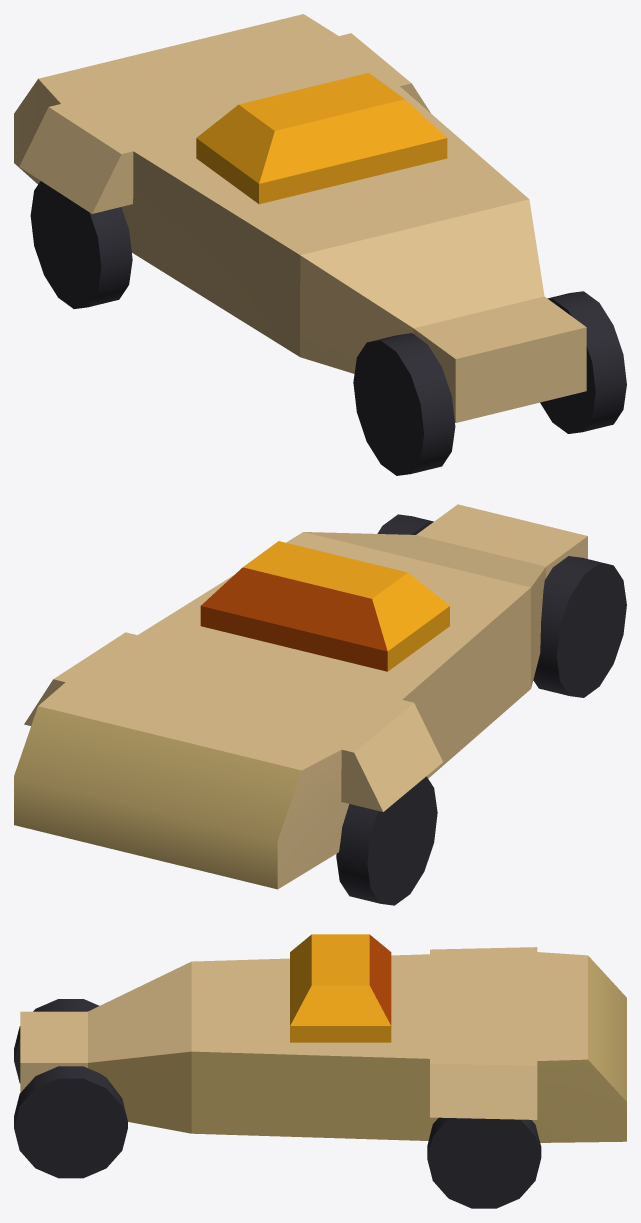
File: Loader.fbx
The picture shows the model from 3 angles, top to bottom: view 1: azimuth 30°, elevation 25°; view 2: azimuth 150°, elevation 25°; view 3: azimuth 270°, elevation 25°; orthographic projection. The views are drawn at different scales.
Parts seen in each view (by area): view 1: Loader; view 2: Loader; view 3: Loader.
Part boxes in pixels (<box>): Loader: <box>14,14,626,475</box>; Loader: <box>14,504,626,905</box>; Loader: <box>14,934,626,1208</box>.
Size of the model in its own units: 32.27 by 19.28 by 58.85.
